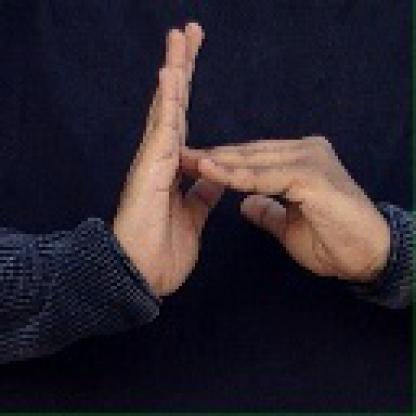Z: (120, 16, 357, 300)
